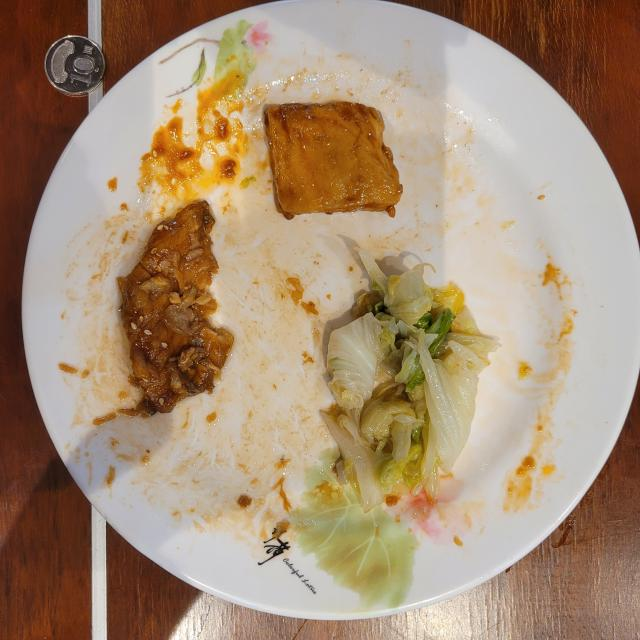Kabayaki sea bream fillet: (118, 201, 234, 415)
cabbage: (322, 249, 499, 511)
coin: (45, 35, 105, 96)
creamy tofu: (265, 101, 402, 218)
